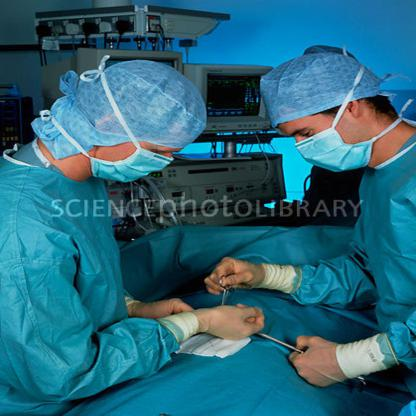face: (108, 120, 204, 186), (275, 102, 361, 173)
